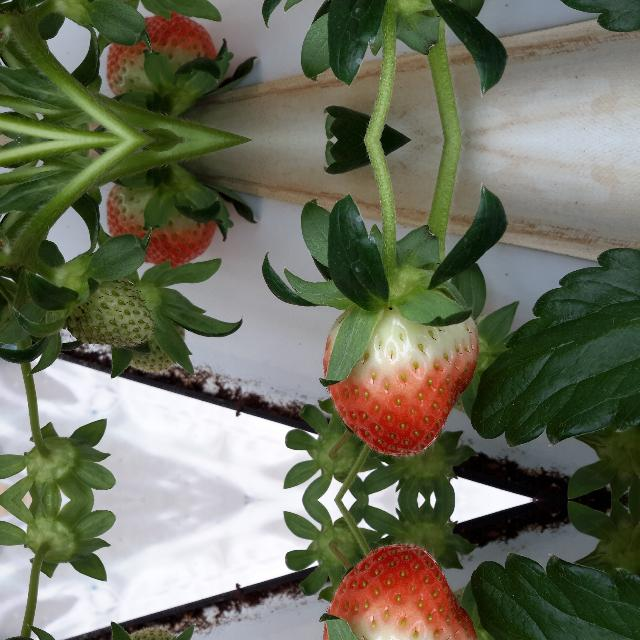Health_100: (105, 176, 218, 276), (105, 4, 218, 104)
Health_25: (48, 260, 154, 354), (47, 0, 154, 20)
Health_75: (320, 303, 480, 457), (320, 543, 479, 640)
